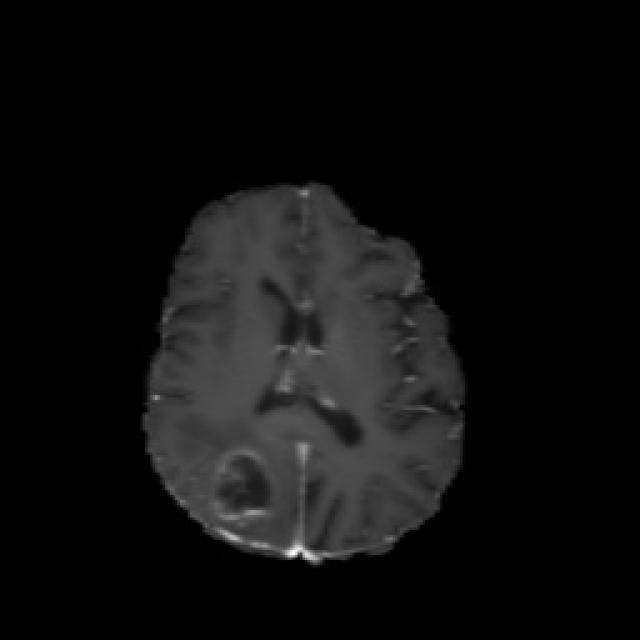negative: (215, 451, 273, 524)
